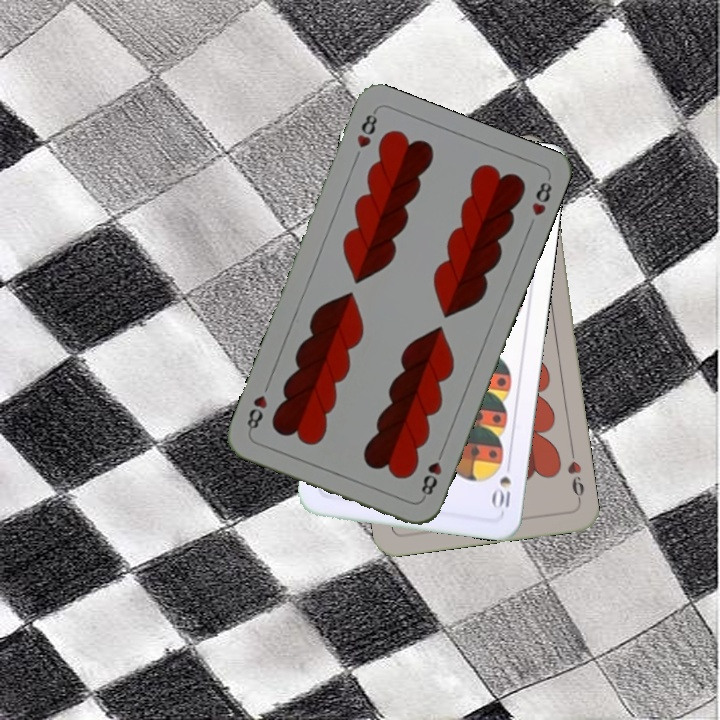H8: (417, 445, 447, 502), (352, 107, 380, 151)
H9: (563, 446, 587, 505)
S10: (489, 472, 513, 511)
